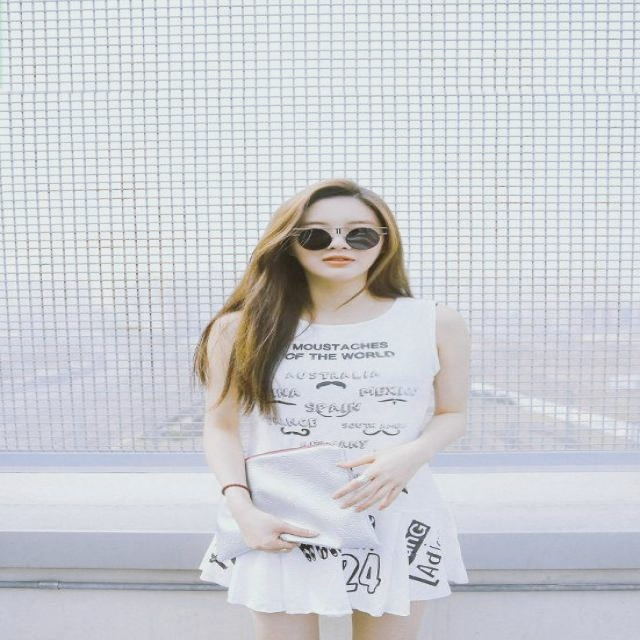Miniskirt: (196, 456, 471, 640)
Sleeveless: (204, 308, 259, 344), (437, 305, 471, 348)
